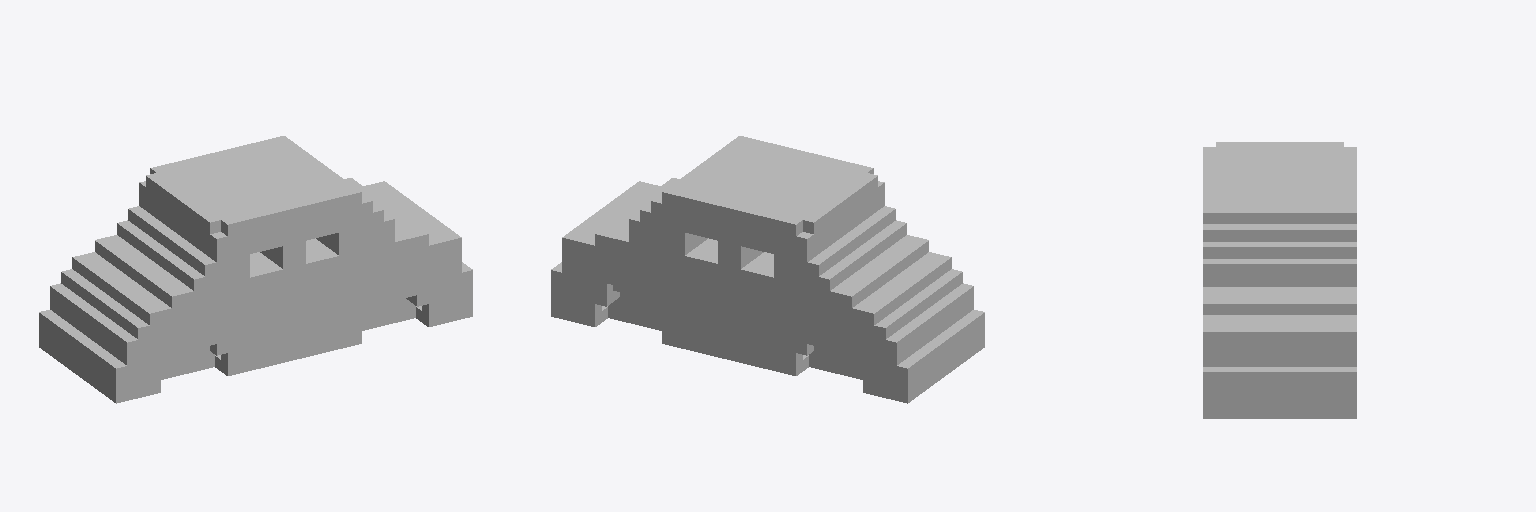
The model's file is Car.obj.
3 views of the same model, side by side, from view 1: azimuth 30°, elevation 25°; view 2: azimuth 150°, elevation 25°; view 3: azimuth 270°, elevation 25° (orthographic).
Visible parts, largest first — view 1: object 1; view 2: object 1; view 3: object 1.
Boxes of the visible parts, x1,y1,x2,y2 form: object 1: [39, 136, 472, 403]; object 1: [551, 136, 984, 403]; object 1: [1203, 142, 1356, 418].
Bounding box in the file's own units: 3.2 × 1.3 × 1.2.